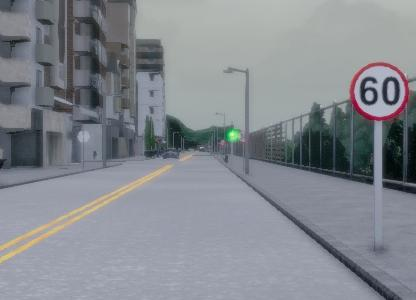Speed_60: (348, 57, 409, 121)
